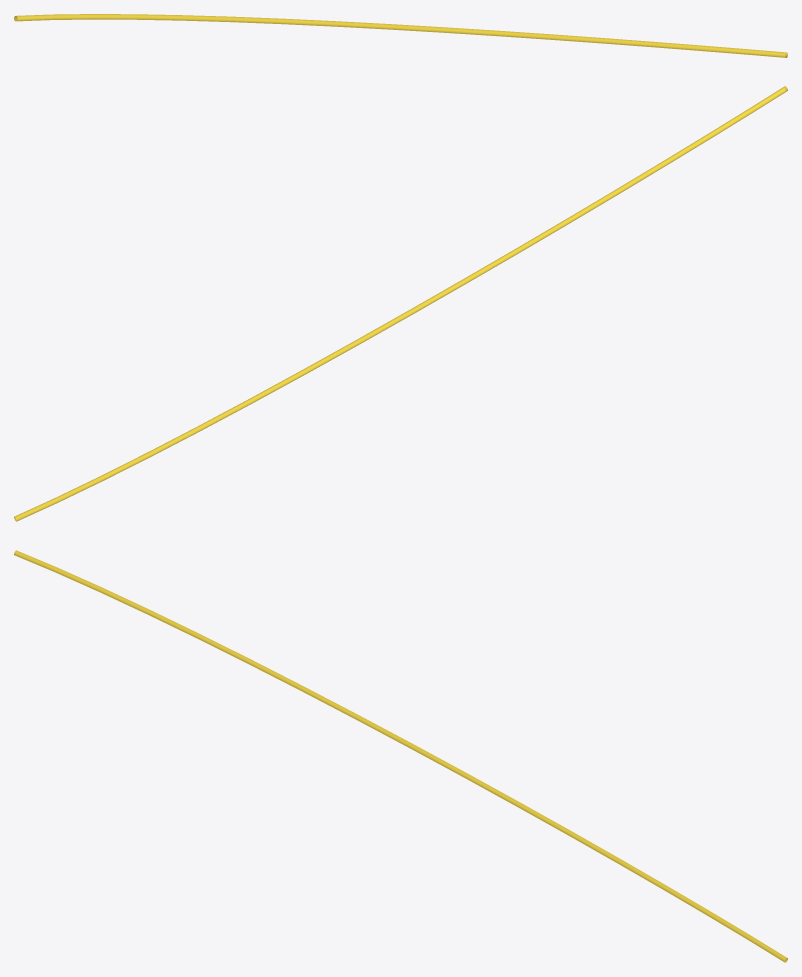
The model's file is Event_402970704_track_16.fbx.
3 views of the same model, one above another, from view 1: azimuth 30°, elevation 25°; view 2: azimuth 210°, elevation 25°; view 3: azimuth 330°, elevation 25° (orthographic). The views are drawn at different scales.
Parts seen in each view (by area): view 1: Model; view 2: Model; view 3: Model.
Boxes of the visible parts, left/top/right/bottom form: Model: left=14, top=14, right=787, bottom=57; Model: left=14, top=86, right=787, bottom=521; Model: left=14, top=550, right=787, bottom=962.
Bounding box in the file's own units: 6.44 × 1.88 × 0.2845.
